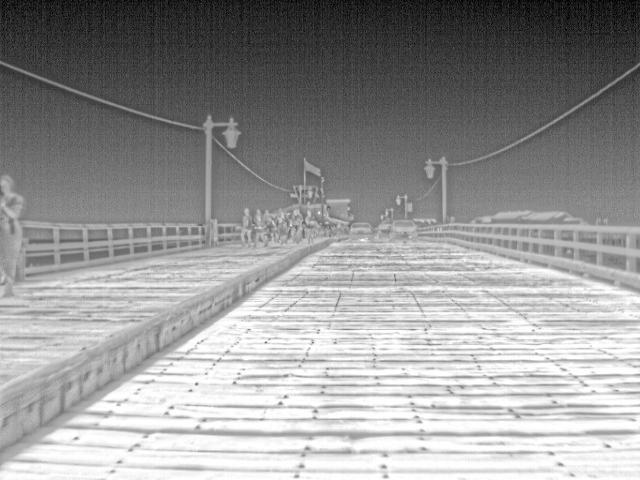car: (389, 220, 419, 240), (347, 222, 375, 240), (377, 221, 395, 239)
person: (1, 176, 28, 297), (237, 206, 256, 246), (259, 208, 274, 248), (290, 206, 307, 241), (306, 214, 319, 246)
